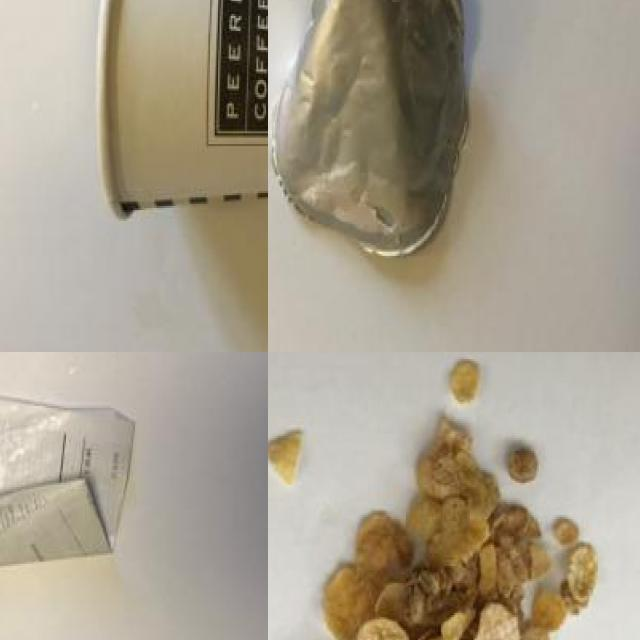compost: (287, 353, 614, 640)
paper: (0, 364, 153, 589)
trash: (268, 0, 505, 293), (85, 0, 268, 232)
